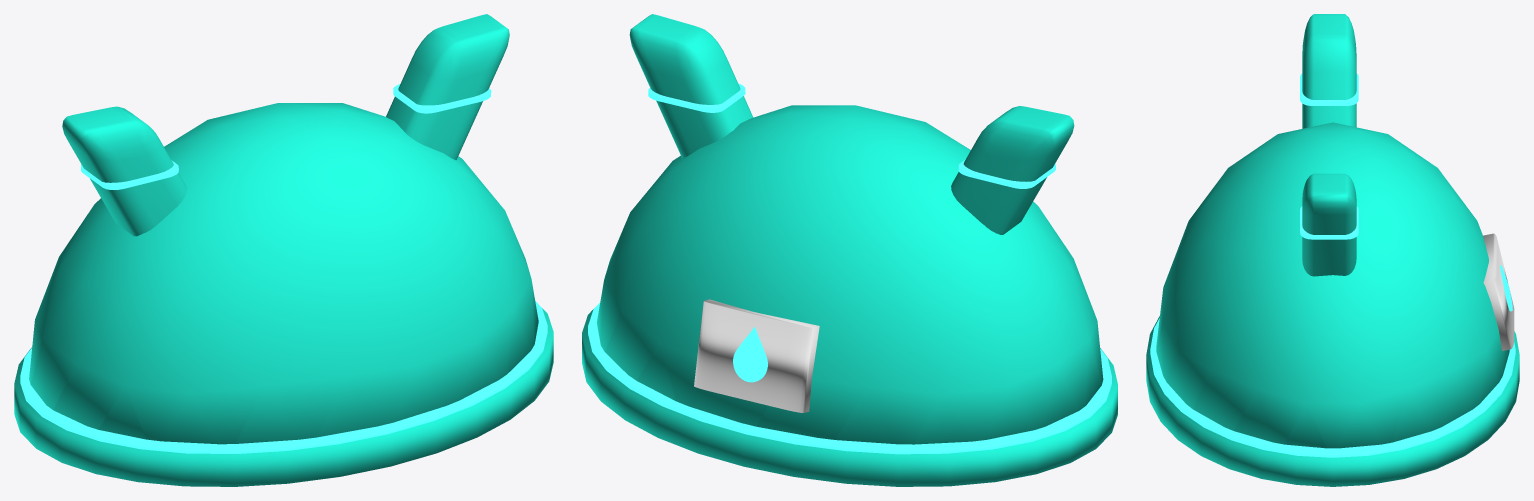
File: waterHat.fbx
3 renders of one model, left to right at view 1: azimuth 30°, elevation 25°; view 2: azimuth 150°, elevation 25°; view 3: azimuth 270°, elevation 25°, orthographic. The views are drawn at different scales.
Parts seen in each view (by area): view 1: Icosphere.160, Cube.023, Icosphere.157, Icosphere.158, Cube.022; view 2: Icosphere.160, Cube.023, Icosphere.157, Cube.021, Icosphere.158, Cube.022, Cylinder.054; view 3: Icosphere.160, Icosphere.157, Cube.023, Icosphere.158, Cube.021, Cube.022.
Boxes of the visible parts, x1,y1,x2,y2 form: Icosphere.160: (29, 103, 538, 444); Cube.023: (62, 14, 509, 236); Icosphere.157: (14, 308, 553, 486); Icosphere.158: (20, 301, 547, 453); Cube.022: (81, 84, 491, 189); Icosphere.160: (597, 105, 1103, 444); Cube.023: (629, 14, 1074, 234); Icosphere.157: (582, 309, 1117, 486); Cube.021: (694, 299, 819, 412); Icosphere.158: (588, 302, 1111, 454); Cube.022: (648, 83, 1055, 188); Cylinder.054: (733, 327, 767, 382); Icosphere.160: (1156, 122, 1509, 448); Icosphere.157: (1146, 316, 1519, 486); Cube.023: (1302, 14, 1356, 276); Icosphere.158: (1150, 318, 1515, 457); Cube.021: (1483, 233, 1514, 350); Cube.022: (1300, 73, 1358, 239).
Bounding box in the file's own units: 209 × 128 × 156.
